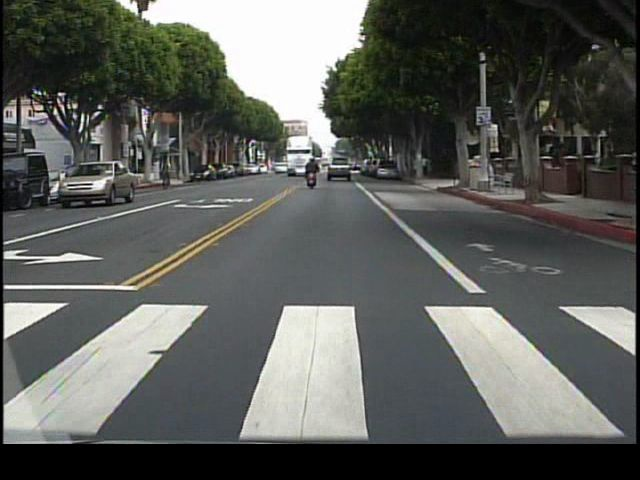person: (304, 155, 323, 197), (159, 159, 177, 187), (426, 155, 435, 185), (422, 155, 427, 179)
